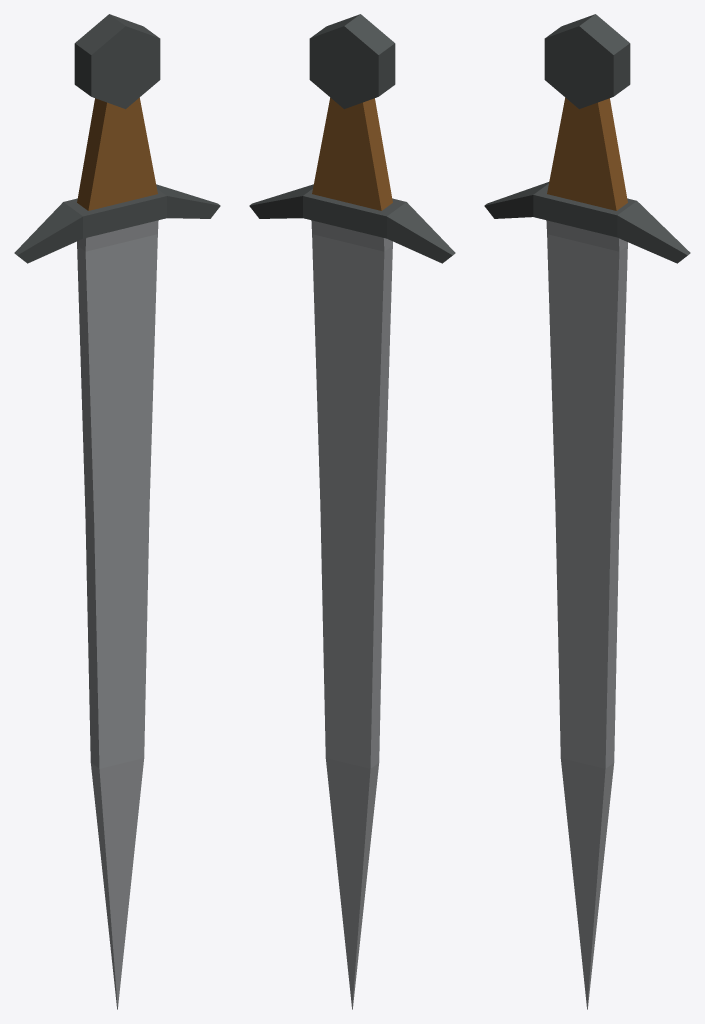
File: Sword_1_Brown.fbx
3 renders of one model, left to right at view 1: azimuth 30°, elevation 25°; view 2: azimuth 150°, elevation 25°; view 3: azimuth 330°, elevation 25°, orthographic.
Visible parts, largest first — view 1: Sword_1_Brown_Part_1, Sword_1_Brown_Part_2, Sword_1_Brown_Part_3; view 2: Sword_1_Brown_Part_1, Sword_1_Brown_Part_2, Sword_1_Brown_Part_3; view 3: Sword_1_Brown_Part_1, Sword_1_Brown_Part_2, Sword_1_Brown_Part_3.
Boxes of the visible parts, box(x1,y1,x2,y2) form: Sword_1_Brown_Part_1: box(77, 220, 158, 1009); Sword_1_Brown_Part_2: box(14, 14, 220, 263); Sword_1_Brown_Part_3: box(77, 97, 157, 210); Sword_1_Brown_Part_1: box(311, 220, 392, 1009); Sword_1_Brown_Part_2: box(249, 14, 455, 263); Sword_1_Brown_Part_3: box(312, 97, 392, 210); Sword_1_Brown_Part_1: box(546, 220, 627, 1009); Sword_1_Brown_Part_2: box(484, 14, 690, 263); Sword_1_Brown_Part_3: box(547, 97, 627, 210).
Bounding box in the file's own units: 25.61 × 119 × 4.32.
